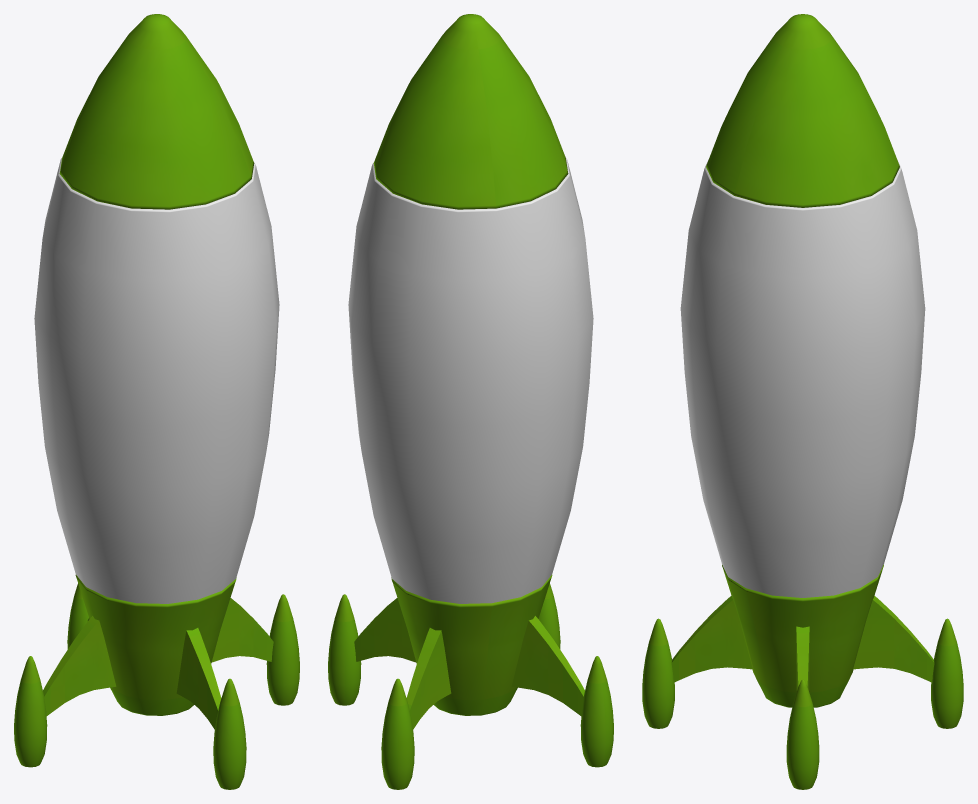
File: ToyRocketGreen.fbx
3 views of the same model, side by side, from view 1: azimuth 30°, elevation 25°; view 2: azimuth 150°, elevation 25°; view 3: azimuth 270°, elevation 25° (orthographic).
Visible parts, largest first — view 1: Rocket, RocketCaps; view 2: Rocket, RocketCaps; view 3: Rocket, RocketCaps.
Part boxes in pixels (x1=…): Rocket: x1=34, y1=158, x2=279, y2=603; RocketCaps: x1=14, y1=14, x2=299, y2=789; Rocket: x1=348, y1=158, x2=593, y2=603; RocketCaps: x1=328, y1=14, x2=613, y2=789; Rocket: x1=680, y1=159, x2=925, y2=597; RocketCaps: x1=642, y1=14, x2=963, y2=789.
Bounding box in the file's own units: 3.11 × 7.56 × 3.11.
